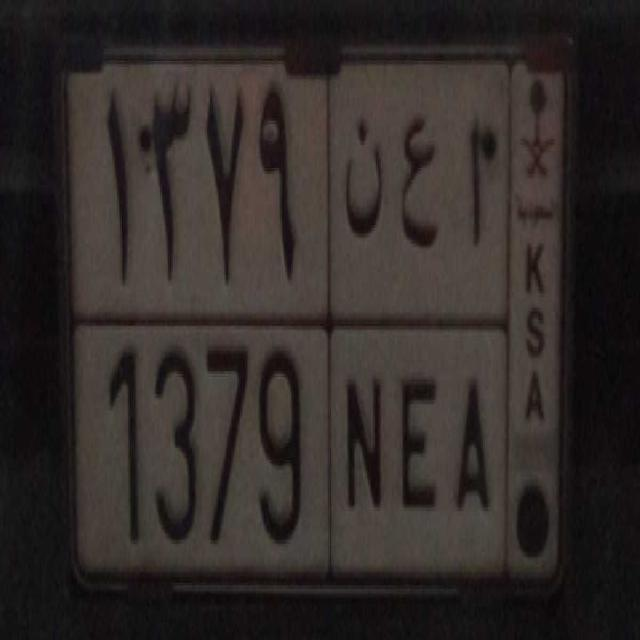license_plate: (81, 324, 496, 570)
